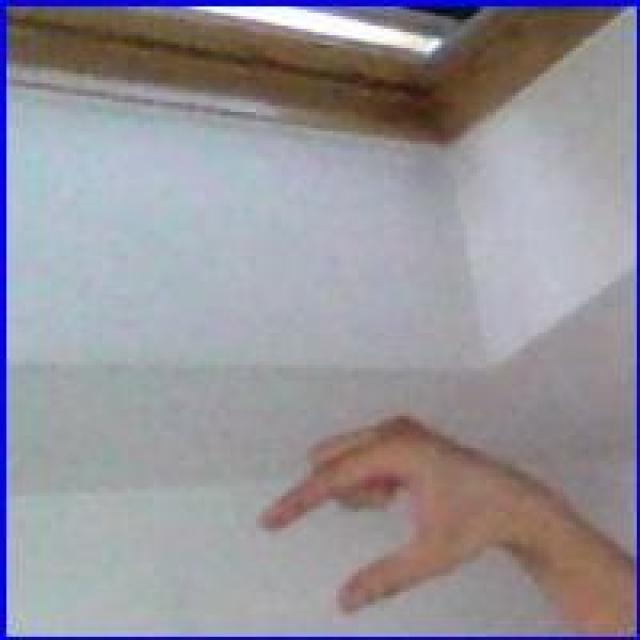Q: (253, 410, 528, 618)
